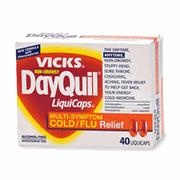grozi_8: (14, 30, 166, 147)
